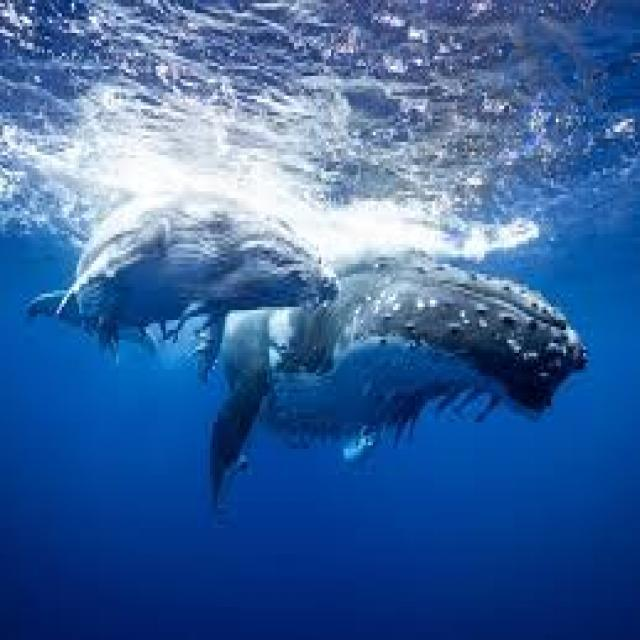blue_whale: (250, 198, 590, 551), (39, 198, 346, 429)
